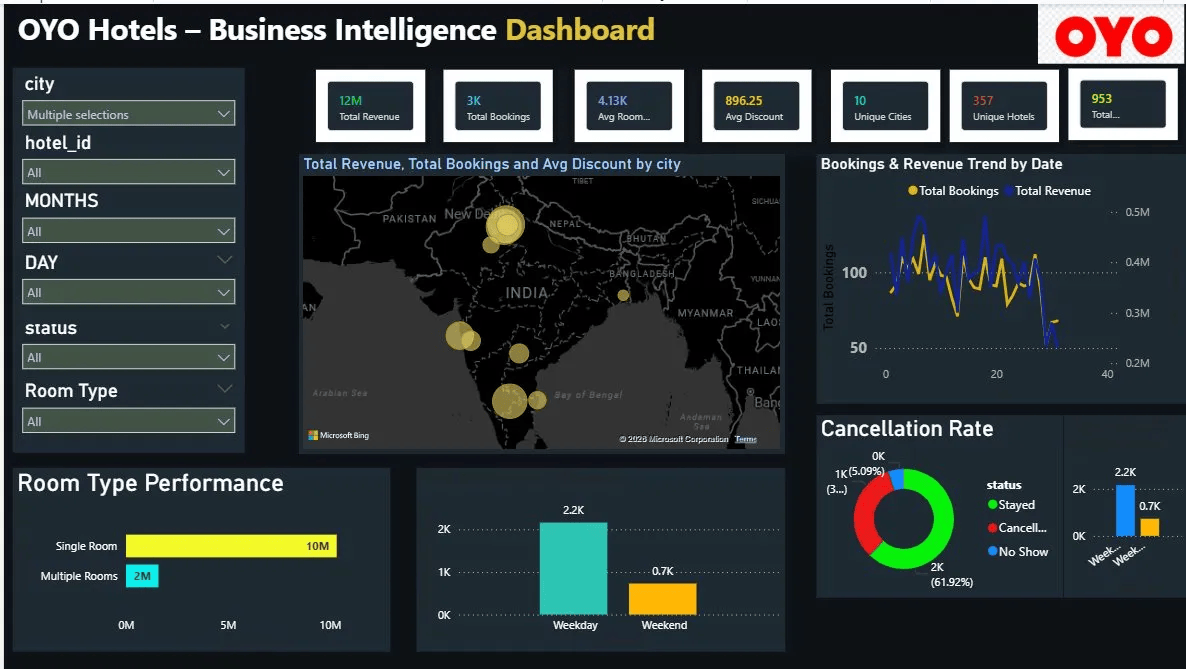

The page's visual inventory and layout, read from the dashboard file:
{"tool":"powerbi","page":{"name":"Page 2","canvas":[1280,720],"ordinal":1},"visuals":[{"type":"textbox","box":[9.6,0,701.2,279.9],"z":0},{"type":"cardVisual","fields":{"Data":["Oyo SQL.Avg Room Rate"]},"box":[612.5,66.2,128.8,88.8],"z":1000},{"type":"cardVisual","fields":{"Data":["Oyo SQL.Avg Discount"]},"box":[751.2,66.2,128.8,88.8],"z":2000},{"type":"cardVisual","fields":{"Data":["Oyo SQL.Unique Cities"]},"box":[890,66.2,128.8,88.8],"z":3000},{"type":"cardVisual","fields":{"Data":["Oyo SQL.Unique Hotels"]},"box":[1018.8,66.2,128.8,88.8],"z":4000},{"type":"cardVisual","fields":{"Data":["Oyo SQL.Total Bookings"]},"box":[471.2,66.2,128.8,88.8],"z":5000},{"type":"cardVisual","fields":{"Data":["Oyo SQL.Total Revenue"]},"box":[332.5,66.2,128.8,88.8],"z":6000},{"type":"slicer","fields":{"Values":["Oyo hotels dataset.city"]},"box":[9.6,68.6,251.1,83.7],"z":7000},{"type":"slicer","fields":{"Values":["Oyo hotels dataset.hotel_id"]},"box":[9.6,133.1,251.1,83.7],"z":8000},{"type":"slicer","fields":{"Values":["Oyo SQL.status"]},"box":[9.6,333.4,251.1,83.7],"z":9000},{"type":"slicer","fields":{"Values":["Oyo SQL.BOOKING MONTHS"]},"box":[9.6,196.2,251.1,83.7],"z":10000},{"type":"slicer","fields":{"Values":["Oyo SQL.Room Type"]},"box":[9.6,402.1,251.1,83.7],"z":11000},{"type":"slicer","fields":{"Values":["Oyo SQL.DAY"]},"box":[9.6,262.1,251.1,83.7],"z":12000},{"type":"cardVisual","fields":{"Data":["Oyo SQL.Total Cancelation"]},"box":[1147.2,64.5,129,87.8],"z":13000},{"type":"map","fields":{"Category":["Oyo hotels dataset.city"],"Size":["Oyo SQL.Total Revenue"]},"box":[319.7,161.9,525.6,323.8],"z":14000},{"type":"lineChart","title":"Bookings & Revenue Trend by Date","fields":{"Y":["Oyo SQL.Total Bookings"],"Y2":["Oyo SQL.Total Revenue"],"Category":["Oyo SQL.Booking_date.Variation.Date Hierarchy.Day"]},"box":[879.6,161.9,400.7,270.3],"z":15000},{"type":"clusteredBarChart","title":"Room Type Performance","fields":{"Y":["Sum(Oyo SQL.amount)"],"Category":["Oyo SQL.Room Type"]},"box":[9.6,502.2,408.9,199],"z":16000},{"type":"donutChart","title":"Cancellation Rate","fields":{"Category":["Oyo SQL.status"],"Y":["Oyo SQL.Total Bookings"]},"box":[879.6,444.6,267.6,197.6],"z":17000},{"type":"columnChart","fields":{"Category":["Oyo SQL.IsWeekend"],"Y":["Oyo SQL.Total Bookings"]},"box":[446,502.2,399.3,199],"z":18000},{"type":"columnChart","fields":{"Category":["Oyo SQL.IsWeekend"],"Y":["CountNonNull(Oyo SQL.status)"]},"box":[1147.2,444.6,133.1,197.6],"z":19000},{"type":"image","box":[1118.4,0,161.9,64.5],"z":20000}]}

Visuals, with their boxes in screenshot pixels (x1, y1, x2, y2), scaled from the page's 1280x720 canvas onto the 1186x669 screenshot:
textbox: Rect(9, 0, 659, 260)
cardVisual - Oyo SQL.Avg Room Rate: Rect(568, 62, 687, 144)
cardVisual - Oyo SQL.Avg Discount: Rect(696, 62, 815, 144)
cardVisual - Oyo SQL.Unique Cities: Rect(825, 62, 944, 144)
cardVisual - Oyo SQL.Unique Hotels: Rect(944, 62, 1063, 144)
cardVisual - Oyo SQL.Total Bookings: Rect(437, 62, 556, 144)
cardVisual - Oyo SQL.Total Revenue: Rect(308, 62, 427, 144)
slicer - Oyo hotels dataset.city: Rect(9, 64, 242, 142)
slicer - Oyo hotels dataset.hotel_id: Rect(9, 124, 242, 201)
slicer - Oyo SQL.status: Rect(9, 310, 242, 388)
slicer - Oyo SQL.BOOKING MONTHS: Rect(9, 182, 242, 260)
slicer - Oyo SQL.Room Type: Rect(9, 374, 242, 451)
slicer - Oyo SQL.DAY: Rect(9, 244, 242, 321)
cardVisual - Oyo SQL.Total Cancelation: Rect(1063, 60, 1182, 142)
map - Oyo hotels dataset.city x Oyo SQL.Total Revenue: Rect(296, 150, 783, 451)
"Bookings & Revenue Trend by Date" lineChart: Rect(815, 150, 1185, 402)
"Room Type Performance" clusteredBarChart: Rect(9, 467, 388, 652)
"Cancellation Rate" donutChart: Rect(815, 413, 1063, 597)
columnChart - Oyo SQL.IsWeekend x Oyo SQL.Total Bookings: Rect(413, 467, 783, 652)
columnChart - Oyo SQL.IsWeekend x CountNonNull(Oyo SQL.status): Rect(1063, 413, 1185, 597)
image: Rect(1036, 0, 1185, 60)
